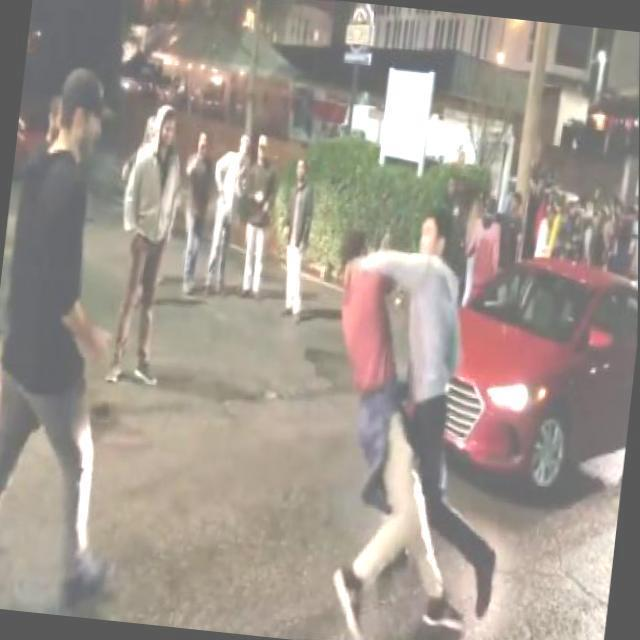fight: (295, 198, 512, 640)
